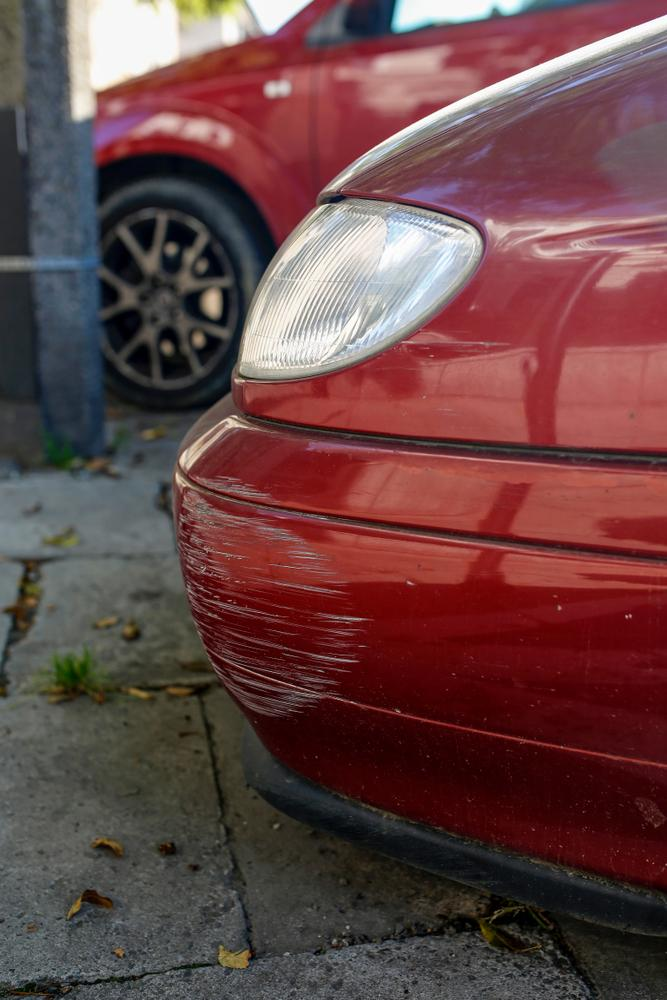scratch: (180, 471, 369, 719)
